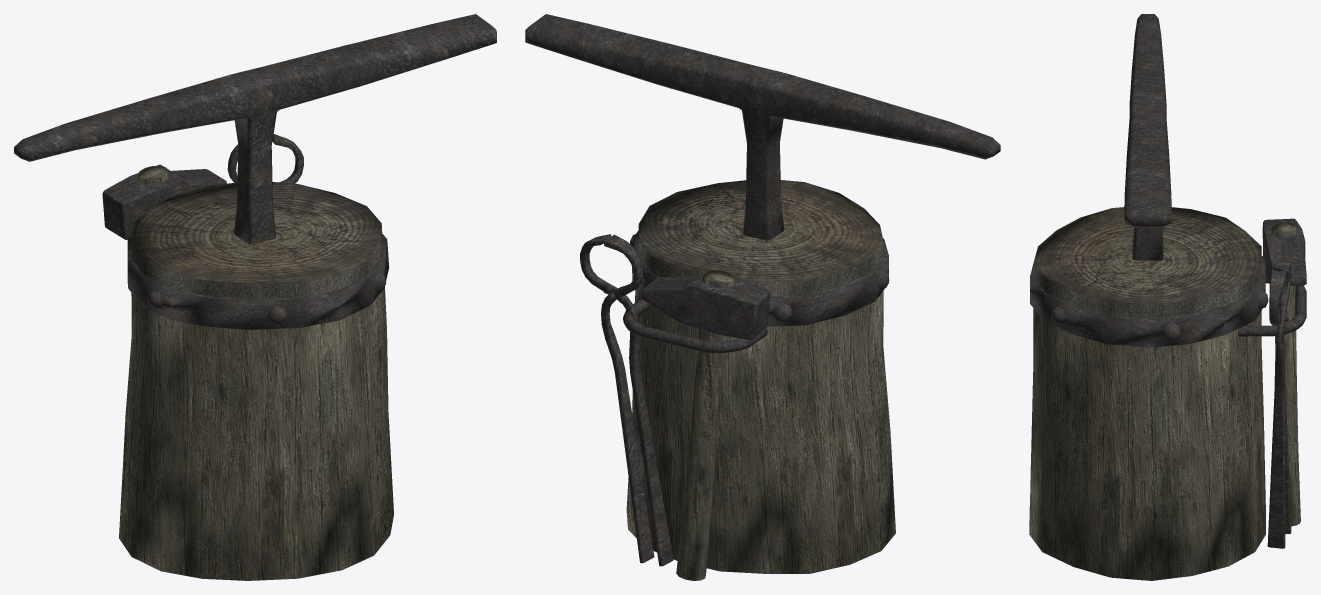
The model's file is anvil3.fbx.
3 renders of one model, left to right at view 1: azimuth 30°, elevation 25°; view 2: azimuth 150°, elevation 25°; view 3: azimuth 270°, elevation 25°, orthographic. The views are drawn at different scales.
Visible parts, largest first — view 1: MBS-Anvil3_978.Shape; view 2: MBS-Anvil3_978.Shape; view 3: MBS-Anvil3_978.Shape.
Part boxes in pixels (bbox=[...]): MBS-Anvil3_978.Shape: bbox=[14, 14, 496, 580]; MBS-Anvil3_978.Shape: bbox=[525, 14, 1000, 580]; MBS-Anvil3_978.Shape: bbox=[1029, 14, 1306, 580].
Bounding box in the file's own units: 100 × 92.19 × 55.42.
Materials: 3 (3 with a texture image).
